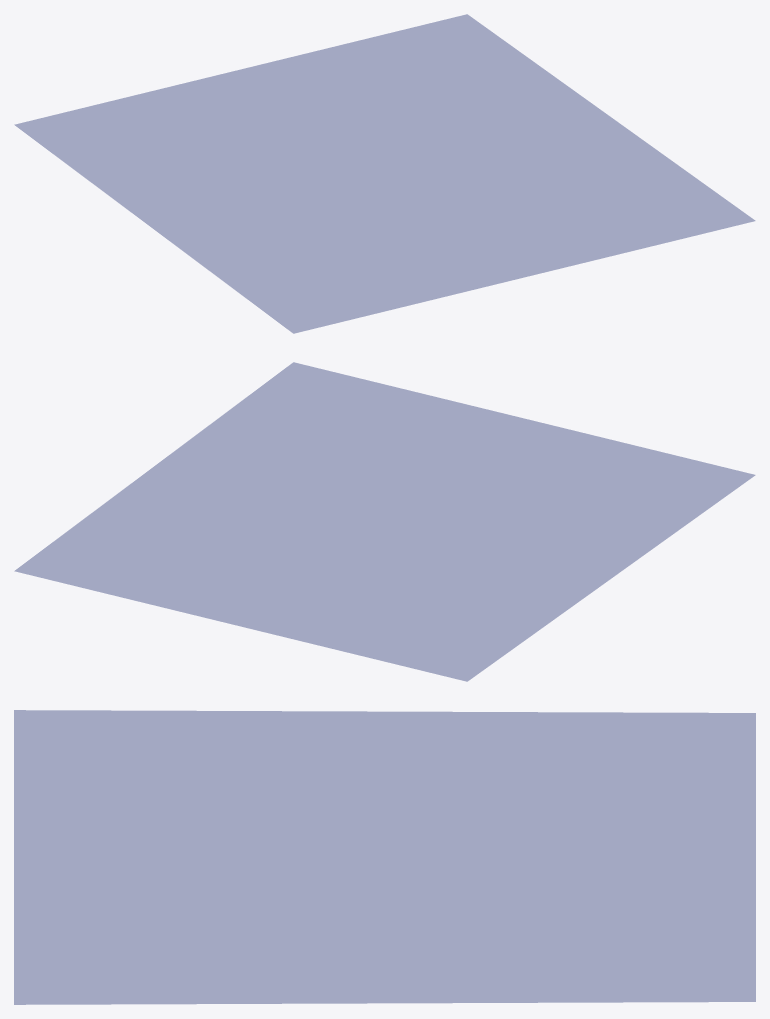
The picture shows the model from 3 angles, top to bottom: view 1: azimuth 30°, elevation 25°; view 2: azimuth 150°, elevation 25°; view 3: azimuth 270°, elevation 25°; orthographic projection. The views are drawn at different scales.
Parts seen in each view (by area): view 1: Object77; view 2: Object77; view 3: Object77.
Part boxes in pixels (left/top/right/bottom): Object77: left=14, top=14, right=755, bottom=333; Object77: left=14, top=362, right=755, bottom=681; Object77: left=14, top=710, right=755, bottom=1004.
Bounding box in the file's own units: 187995 × 0.0452 × 200000.
